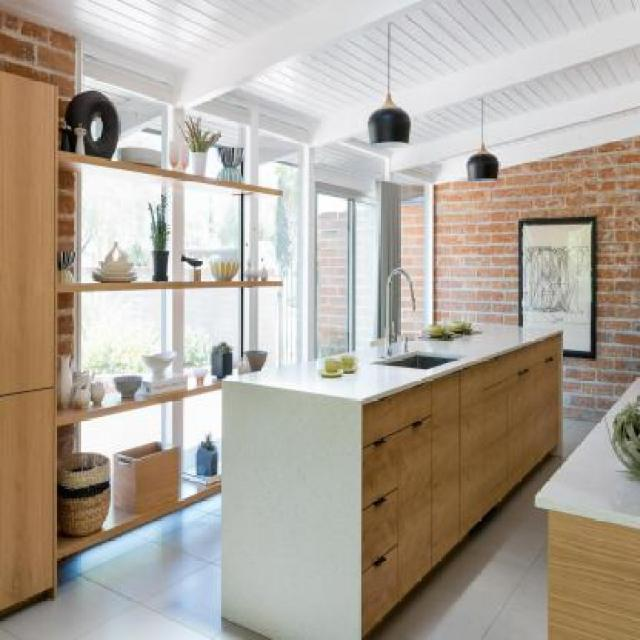Floor: (0, 493, 270, 640), (361, 454, 569, 639)
